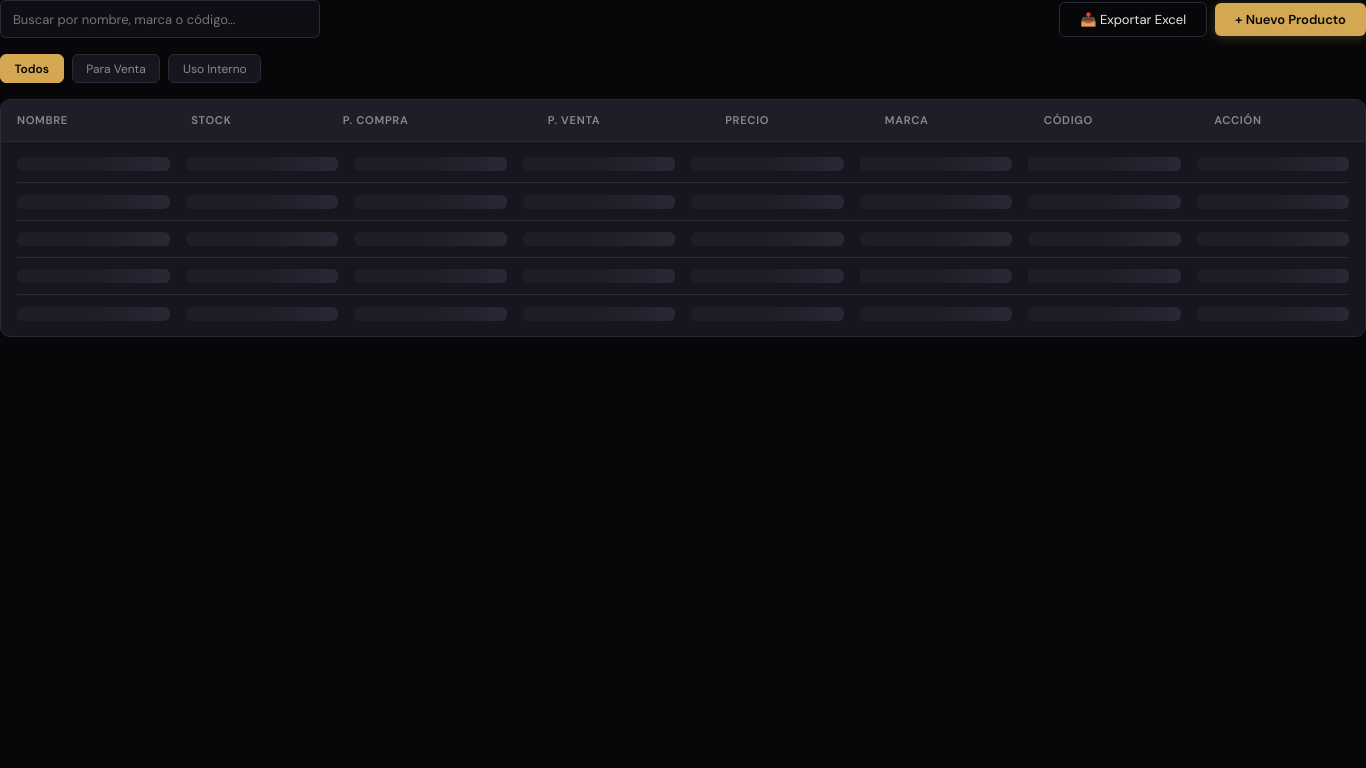
Test: ProductosPage — móvil (grid apilado ≤640px) › el modal de crear producto usa las clases bottom-sheet en móvil (D10)
This screenshot has width=1366, height=768.
Click the button "+ Nuevo Producto" at (1290, 19), box [1215, 2, 1365, 36]
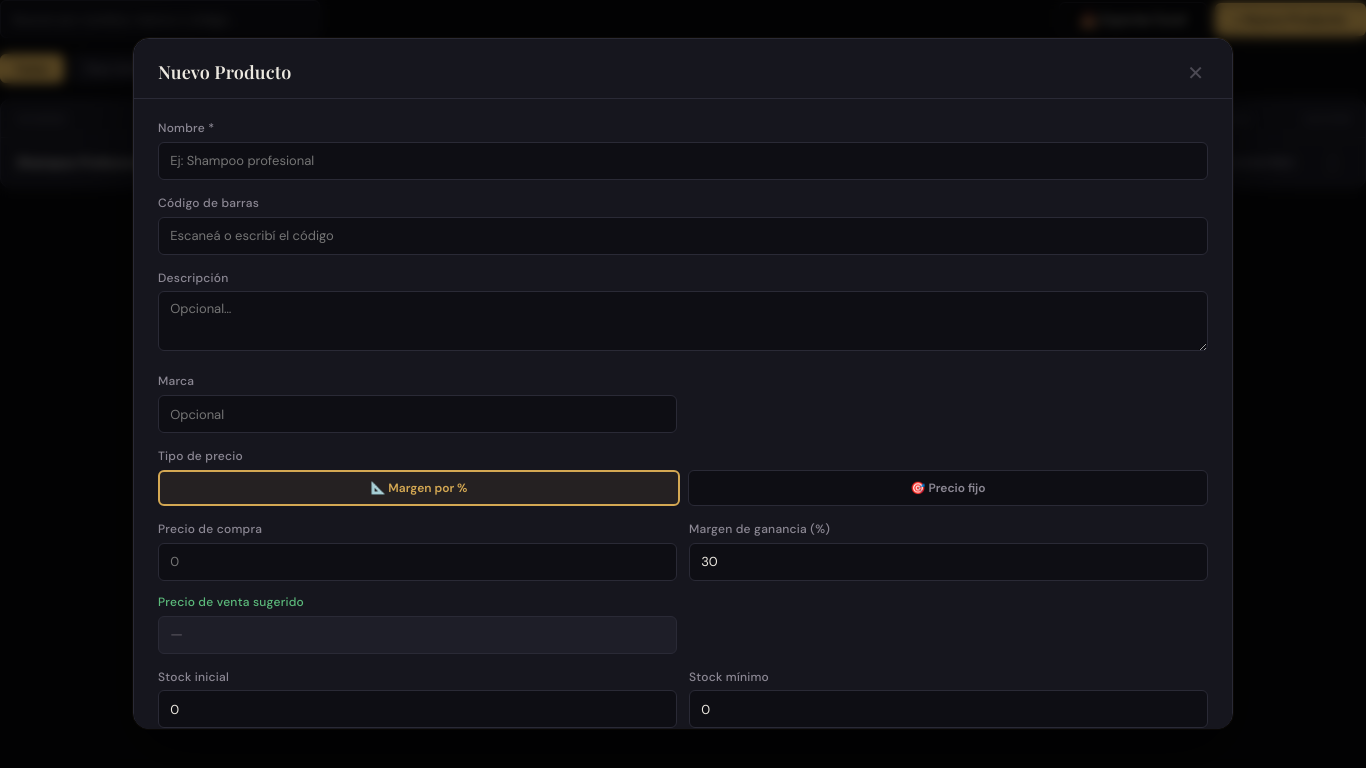
expect the element with class "mobileBottomSheet" is shown: met
expect the element with class "mobileBottomSheetContent" is shown: met
expect the text "Nuevo Producto" is shown: met, box [158, 59, 291, 86]
